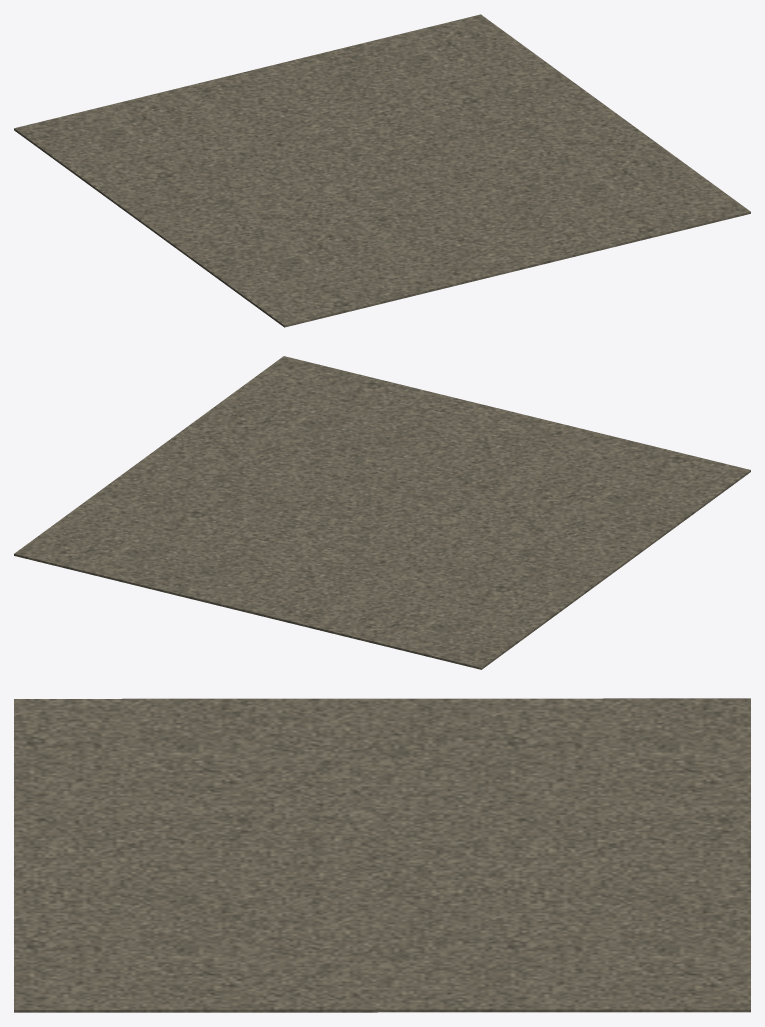
The model's file is carpet_1.fbx.
The picture shows the model from 3 angles, top to bottom: view 1: azimuth 30°, elevation 25°; view 2: azimuth 150°, elevation 25°; view 3: azimuth 270°, elevation 25°; orthographic projection. The views are drawn at different scales.
Visible parts, largest first — view 1: pPlane2; view 2: pPlane2; view 3: pPlane2.
Part boxes in pixels (x1,y1,x2,y2): pPlane2: [14, 14, 750, 327]; pPlane2: [14, 356, 750, 669]; pPlane2: [14, 698, 750, 1012].
Size of the model in its own units: 300 by 1.23 by 300.
